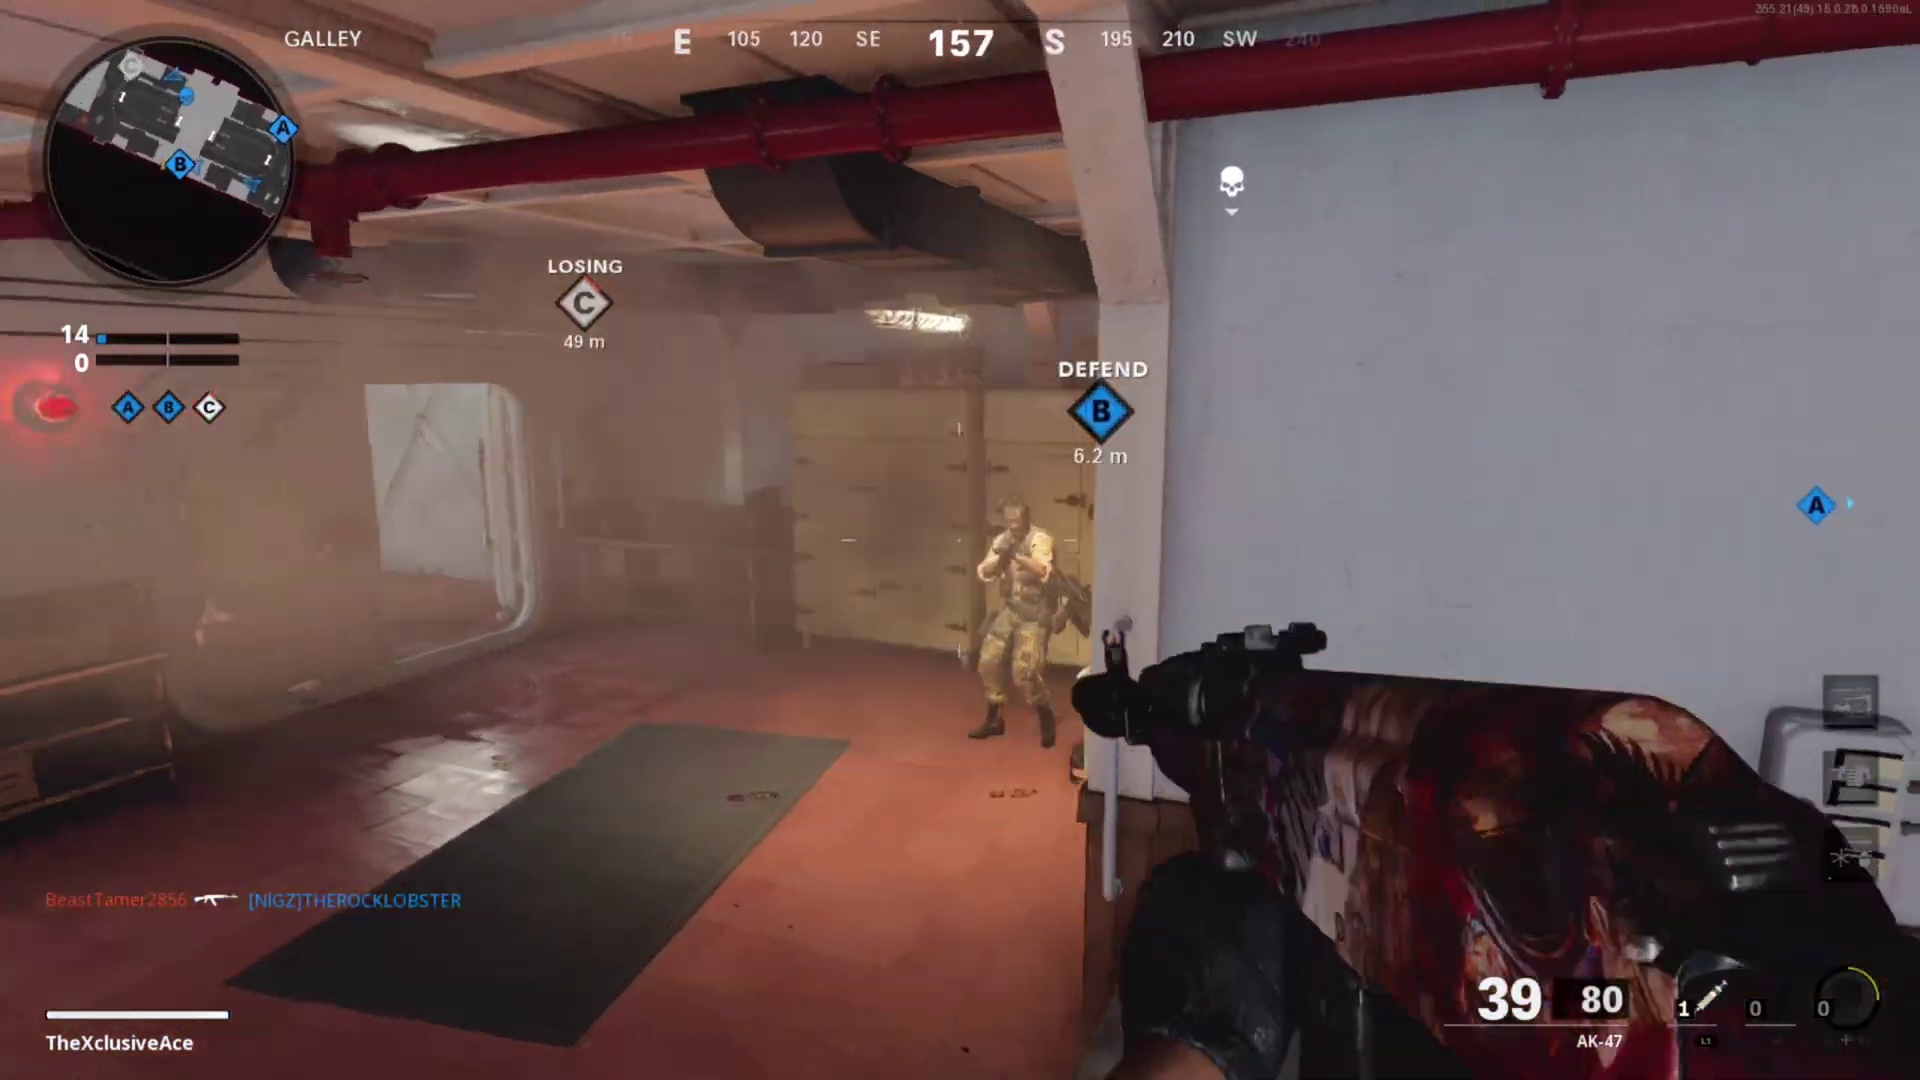head: (996, 498, 1038, 553)
person: (969, 488, 1060, 745)
